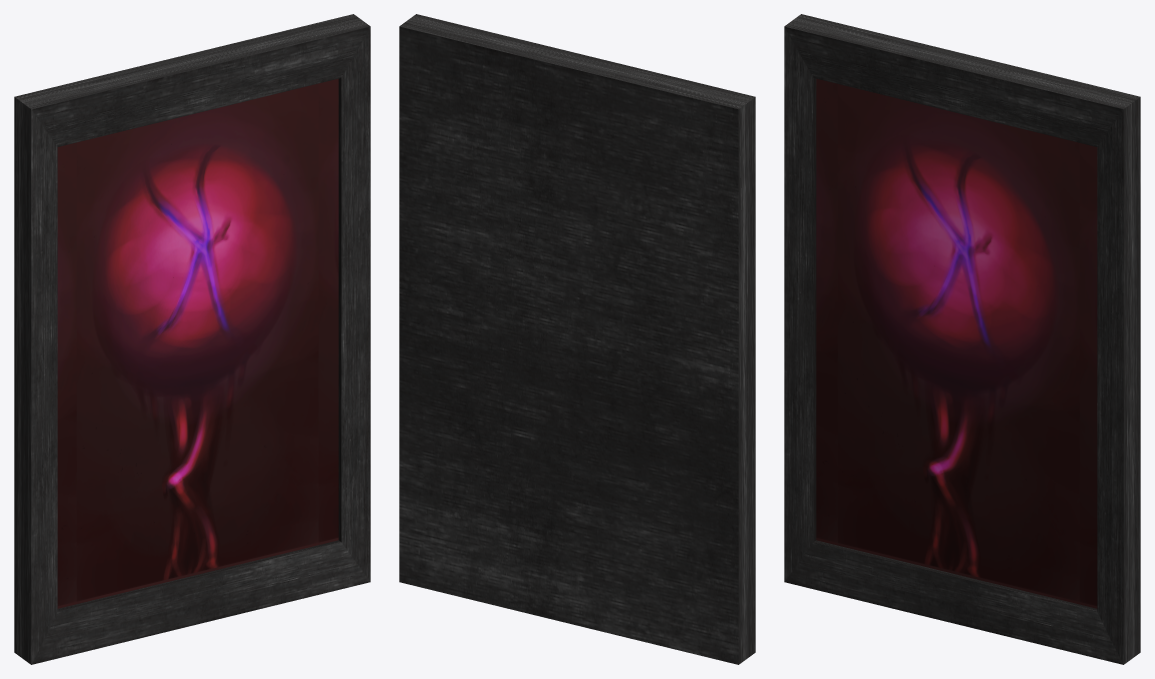
File: painting_portrait_2.fbx
The picture shows the model from 3 angles, left to right: view 1: azimuth 30°, elevation 25°; view 2: azimuth 150°, elevation 25°; view 3: azimuth 330°, elevation 25°; orthographic projection.
Parts seen in each view (by area): view 1: painting_Var2; view 2: painting_Var2; view 3: painting_Var2.
Part boxes in pixels (bbox=[...]): painting_Var2: bbox=[14, 14, 370, 664]; painting_Var2: bbox=[399, 14, 755, 664]; painting_Var2: bbox=[784, 14, 1140, 664].
Size of the model in its own units: 59.07 by 92.39 by 5.15.
1 material, 1 textured.
